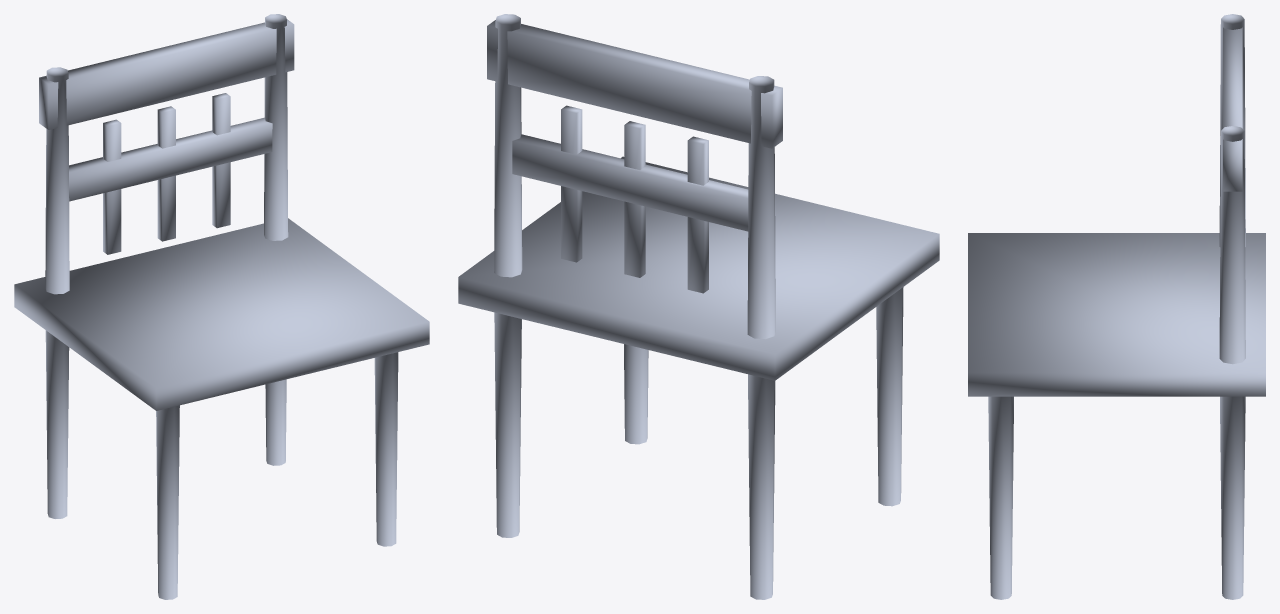
Rendered from polygen_a_low_poly_wooden_chair_20ccfb58.obj.
The picture shows the model from 3 angles, left to right: view 1: azimuth 30°, elevation 25°; view 2: azimuth 150°, elevation 25°; view 3: azimuth 270°, elevation 25°; orthographic projection. The views are drawn at different scales.
Visible parts, largest first — view 1: Chair; view 2: Chair; view 3: Chair.
Part boxes in pixels (x1=…): Chair: x1=14, y1=14, x2=429, y2=599; Chair: x1=458, y1=14, x2=939, y2=599; Chair: x1=968, y1=14, x2=1265, y2=599.
Bounding box in the file's own units: 1.29 × 2 × 1.16.
